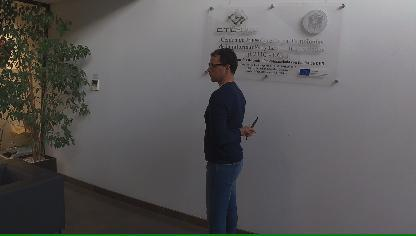knife: (243, 113, 259, 139)
